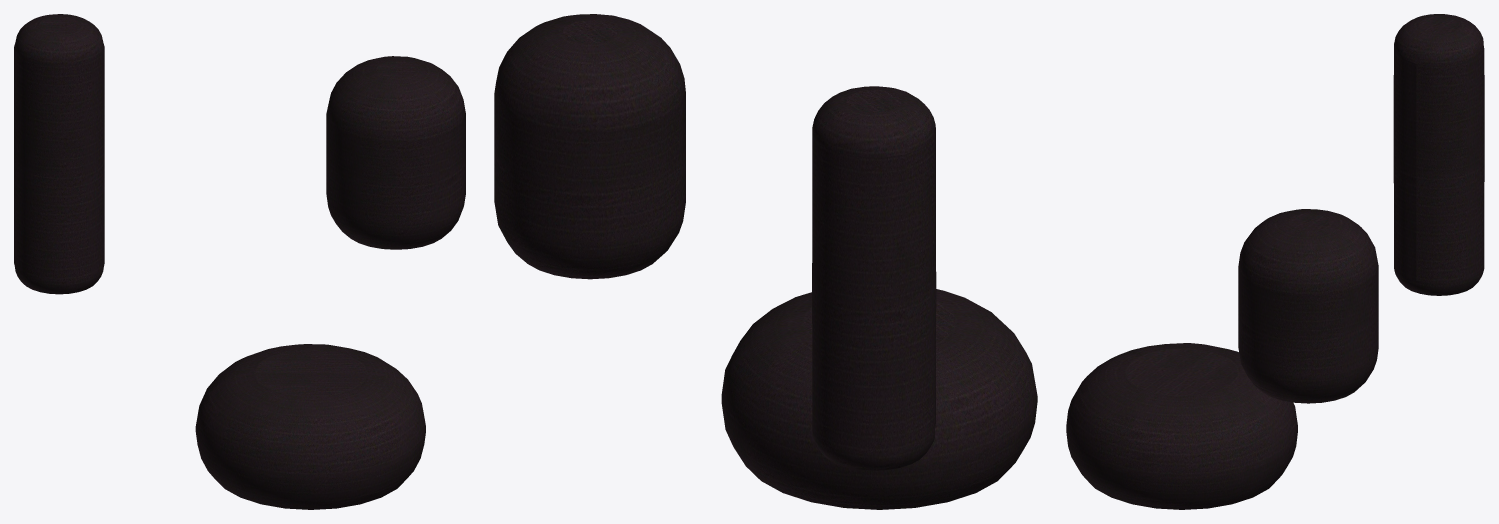
The picture shows the model from 3 angles, left to right: view 1: azimuth 30°, elevation 25°; view 2: azimuth 150°, elevation 25°; view 3: azimuth 270°, elevation 25°; orthographic projection. The views are drawn at different scales.
Size of the model in its own units: 0.6131 by 0.6 by 0.5958.
Materials: 1 (1 with a texture image).
